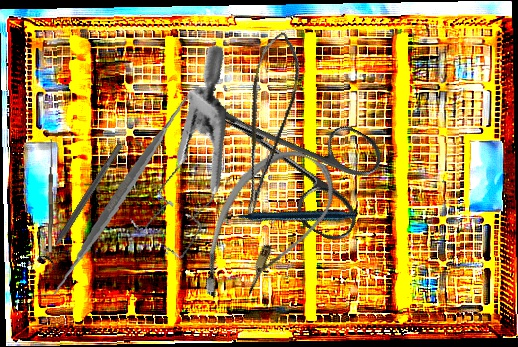Cannula: (184, 132, 347, 326)
Fixation Ring: (35, 138, 130, 272)
Handpiece: (219, 147, 358, 279)
Hook Surgical: (42, 138, 54, 253)
Iris Scissors: (169, 56, 396, 247)
Micro Scissor: (214, 27, 313, 217)
Spatula Surgical: (21, 90, 224, 297)
Speculum: (90, 44, 275, 269)
